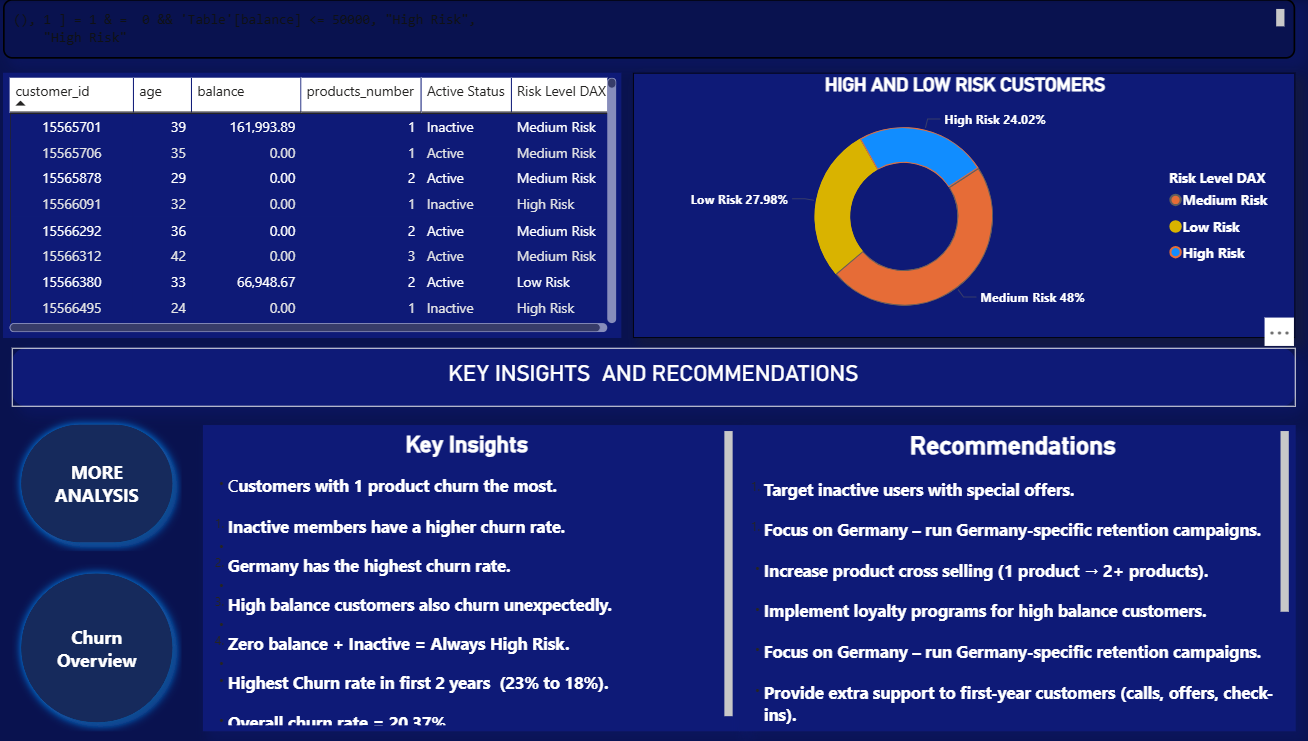

The dashboard page shown, as its layout file describes it:
{"tool":"powerbi","page":{"name":"INSIGHTS","canvas":[1280,720],"ordinal":2},"visuals":[{"type":"textbox","box":[9.7,0,1247.5,57.9],"z":0},{"type":"tableEx","fields":{"Values":["Bank Customer Churn Prediction.customer_id","Bank Customer Churn Prediction.age","Bank Customer Churn Prediction.balance","Bank Customer Churn Prediction.products_number","Bank Customer Churn Prediction.Active Status","Bank Customer Churn Prediction.Risk Level DAX"]},"box":[9.7,71.2,597.2,255.8],"z":1000},{"type":"donutChart","title":"HIGH AND LOW RISK CUSTOMERS","fields":{"Y":["CountNonNull(Bank Customer Churn Prediction.customer_id)"],"Category":["Bank Customer Churn Prediction.Risk Level DAX"]},"box":[617.7,71.2,639.4,255.8],"z":2000},{"type":"actionButton","box":[18.1,401.7,164.1,131.5],"z":3000},{"type":"actionButton","box":[18.1,545.3,164.1,161.7],"z":4000},{"type":"textbox","box":[18.1,336.6,1239,56.7],"z":5000},{"type":"textbox","box":[202.7,411.4,517.6,295.6],"z":6000},{"type":"textbox","box":[720.2,411.4,536.9,295.6],"z":7000}]}

Visuals, with their boxes on the page's 1280x720 design canvas (x1, y1, x2, y2). These are canvas units, not pixel positions in the 1308x741 screenshot, which may show the page scaled, cropped or inside an application window:
textbox: x1=10, y1=0, x2=1257, y2=58
tableEx - Bank Customer Churn Prediction.customer_id x Bank Customer Churn Prediction.age: x1=10, y1=71, x2=607, y2=327
"HIGH AND LOW RISK CUSTOMERS" donutChart: x1=618, y1=71, x2=1257, y2=327
actionButton: x1=18, y1=402, x2=182, y2=533
actionButton: x1=18, y1=545, x2=182, y2=707
textbox: x1=18, y1=337, x2=1257, y2=393
textbox: x1=203, y1=411, x2=720, y2=707
textbox: x1=720, y1=411, x2=1257, y2=707
